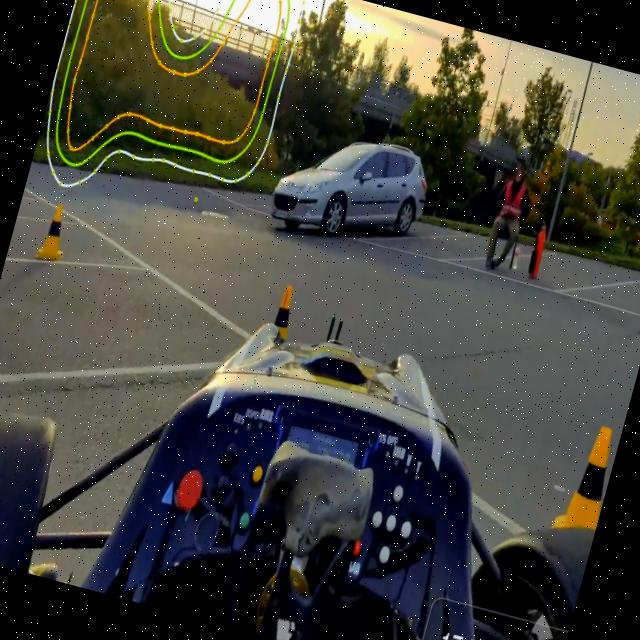yellow_cone: (550, 413, 624, 530), (34, 202, 74, 264), (267, 282, 300, 341)
